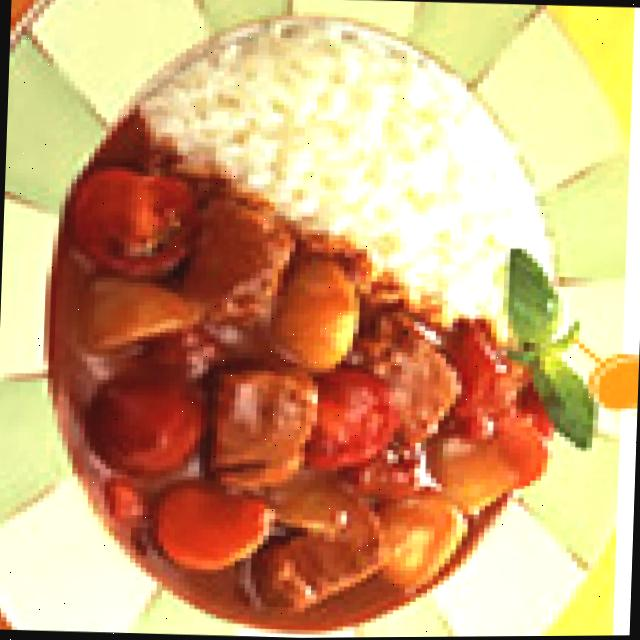牛肉菜式: (0, 0, 635, 640)
